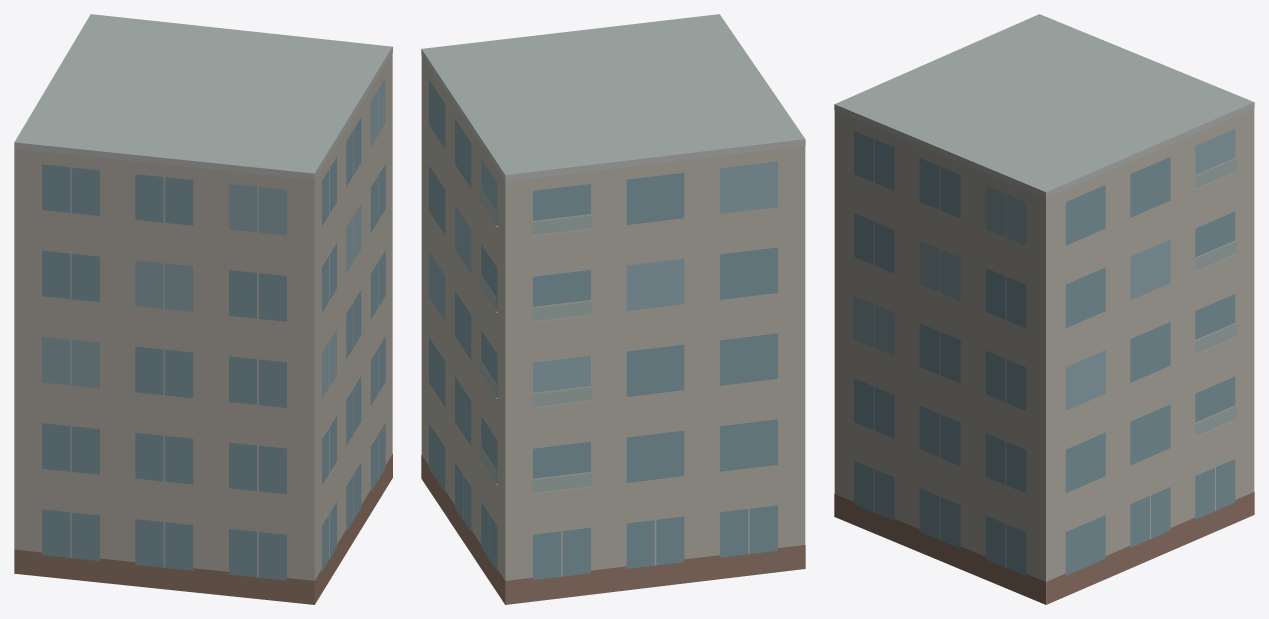
The model's file is survey-upis-33015783.glb.
3 views of the same model, side by side, from view 1: azimuth 30°, elevation 25°; view 2: azimuth 150°, elevation 25°; view 3: azimuth 270°, elevation 25° (orthographic). The views are drawn at different scales.
Parts seen in each view (by area): view 1: survey-upis-33015783.tmp; view 2: survey-upis-33015783.tmp; view 3: survey-upis-33015783.tmp.
Part boxes in pixels (<box>): survey-upis-33015783.tmp: <box>14,14,392,604</box>; survey-upis-33015783.tmp: <box>421,14,805,604</box>; survey-upis-33015783.tmp: <box>834,14,1254,604</box>.
Bounding box in the file's own units: 15.02 × 16.2 × 14.95.
